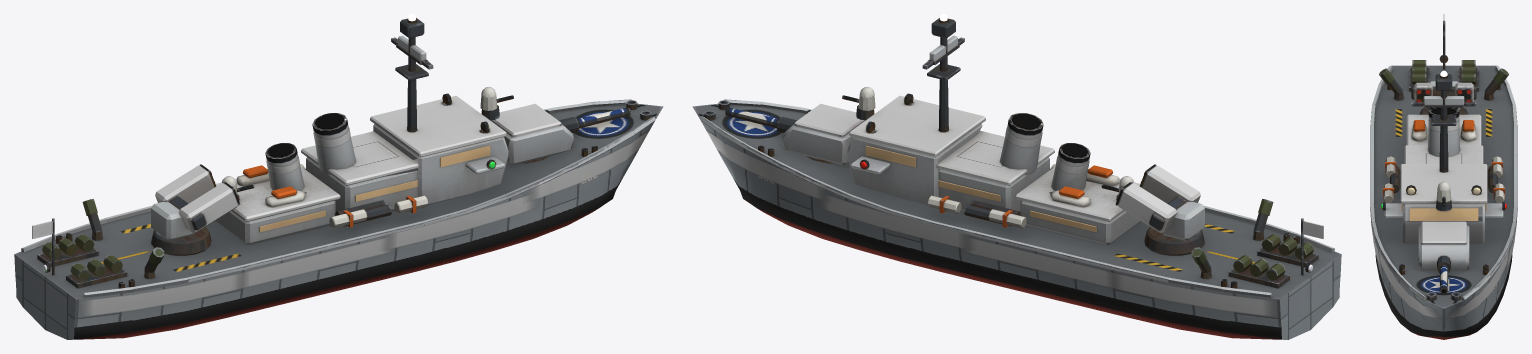
Rendered from dd.allies.glb.
The picture shows the model from 3 angles, left to right: view 1: azimuth 30°, elevation 25°; view 2: azimuth 150°, elevation 25°; view 3: azimuth 270°, elevation 25°; orthographic projection. The views are drawn at different scales.
Parts seen in each view (by area): view 1: hull_mesh, fgun_mesh, arm_mesh, turret_mesh, fb0_mesh; view 2: hull_mesh, fgun_mesh, arm_mesh, turret_mesh, fb0_mesh; view 3: hull_mesh, fgun_mesh, arm_mesh, radar_mesh, fb0_mesh, turret_mesh.
Boxes of the visible parts, <box> form: hull_mesh: <box>14,14,663,339</box>; fgun_mesh: <box>490,103,574,165</box>; arm_mesh: <box>155,164,240,233</box>; turret_mesh: <box>151,201,211,255</box>; fb0_mesh: <box>558,107,630,133</box>; hull_mesh: <box>692,14,1341,339</box>; fgun_mesh: <box>781,103,865,165</box>; arm_mesh: <box>1115,164,1200,233</box>; turret_mesh: <box>1144,201,1204,255</box>; fb0_mesh: <box>725,107,797,133</box>; hull_mesh: <box>1370,14,1517,339</box>; fgun_mesh: <box>1418,221,1469,270</box>; arm_mesh: <box>1411,82,1476,102</box>; radar_mesh: <box>1422,96,1465,107</box>; fb0_mesh: <box>1437,255,1450,293</box>; turret_mesh: <box>1419,81,1468,114</box>.
Bounding box in the file's own units: 1.53 × 0.556 × 0.3604.
Materials: 2 (1 with a texture image).
